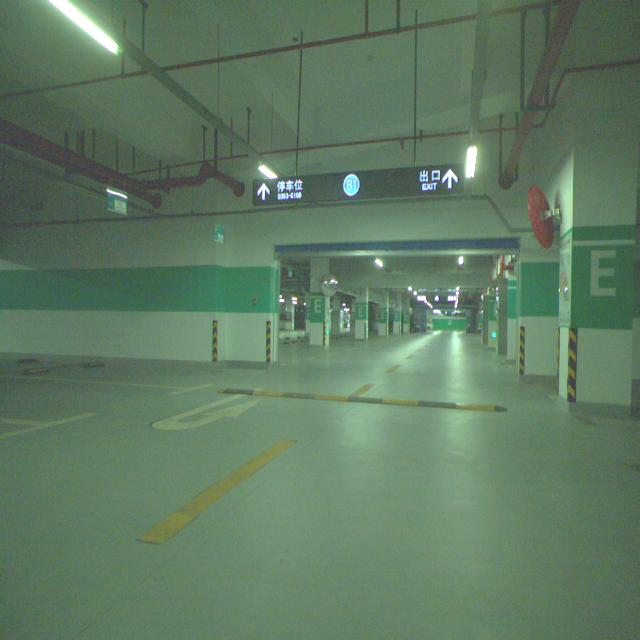pillar: (559, 141, 638, 405), (309, 258, 330, 345)
